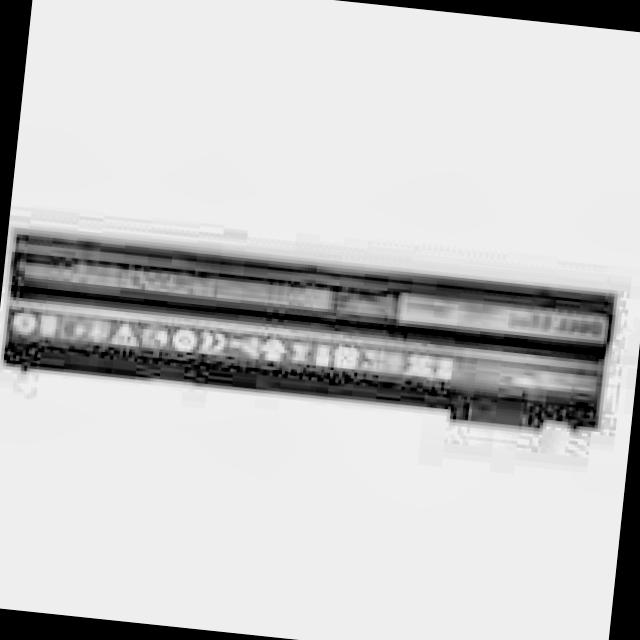Battery: (0, 218, 621, 441)
